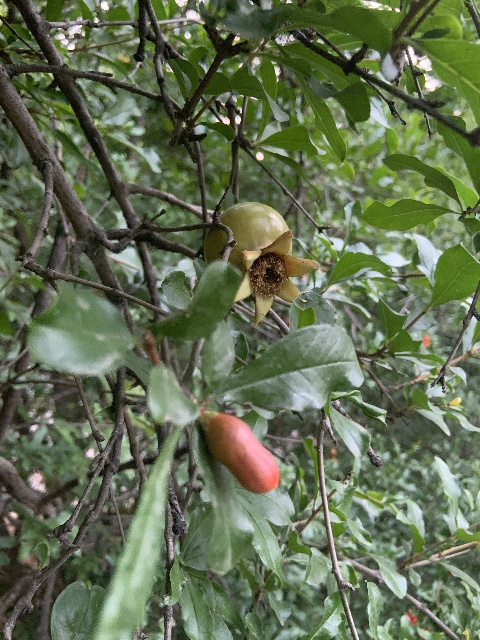bud: (201, 412, 279, 494)
mid-growth: (208, 200, 322, 326)
